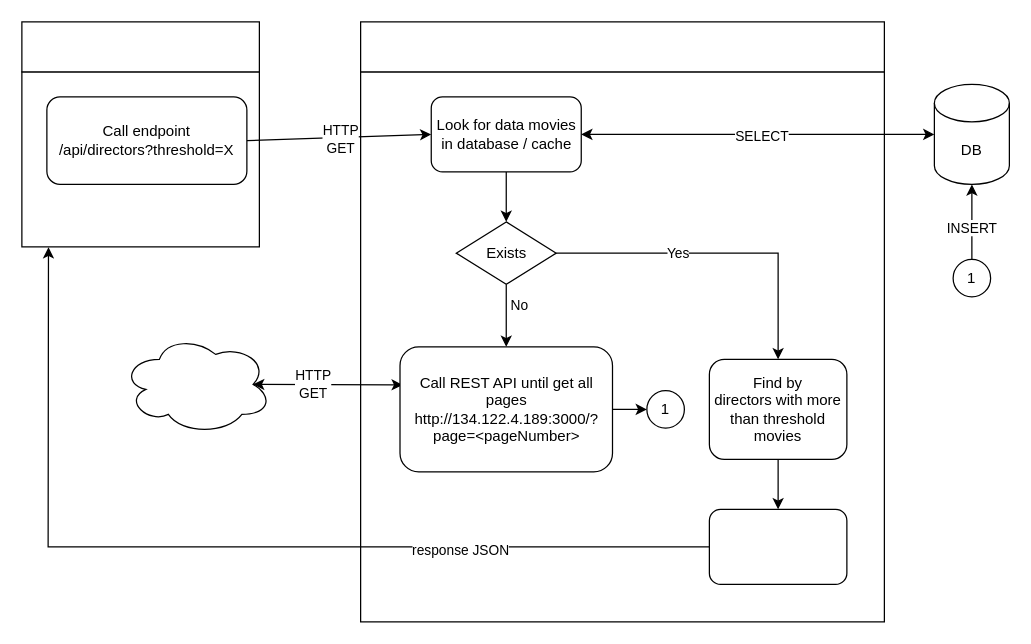
Some shapes in this 1031 by 644 pixel diagram are drawn without their labels. The box of each missing label's shape, as (x1, y1, x2, y2) in pixels:
API Movies: (121, 333, 272, 434)
Insomnia / App: (21, 21, 259, 72)
Microservice: (359, 21, 884, 72)
Order by names: (708, 508, 847, 584)
